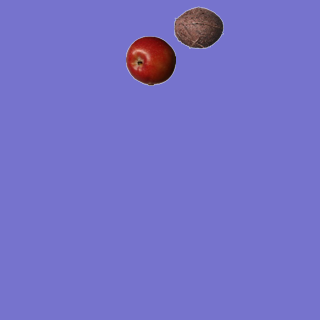Apple Braeburn: (125, 35, 175, 85)
Cocos: (173, 2, 223, 52)
